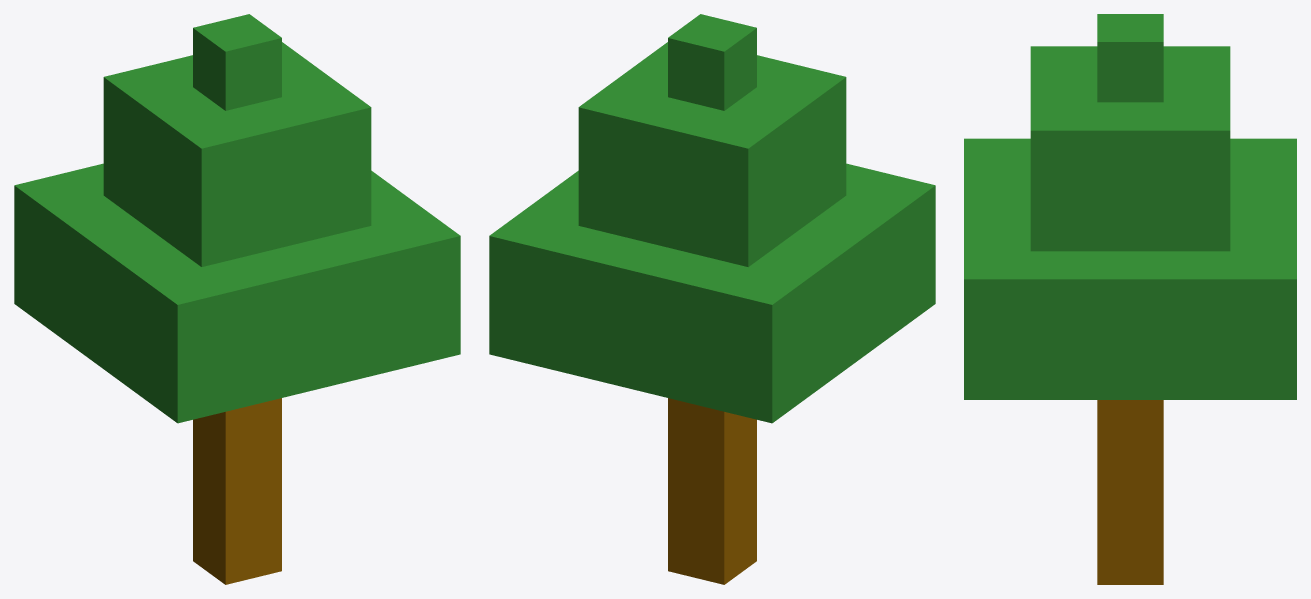
File: tree.fbx
3 views of the same model, side by side, from view 1: azimuth 30°, elevation 25°; view 2: azimuth 150°, elevation 25°; view 3: azimuth 270°, elevation 25° (orthographic).
Parts seen in each view (by area): view 1: tree; view 2: tree; view 3: tree.
Boxes of the visible parts, <box> form: tree: <box>14,14,460,584</box>; tree: <box>489,14,935,584</box>; tree: <box>964,14,1296,584</box>.
Size of the model in its own units: 125 by 225 by 125.
Materials: 1 (1 with a texture image).
